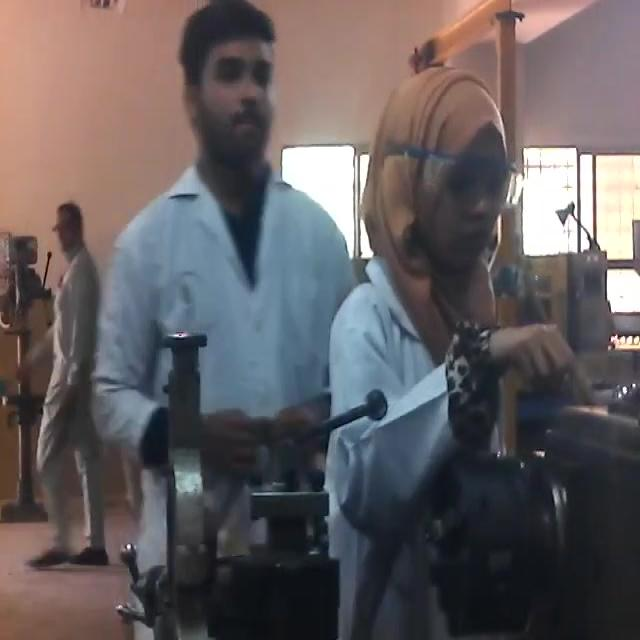googles: (418, 128, 528, 225)
labcoat: (95, 160, 349, 482), (329, 257, 506, 633)
